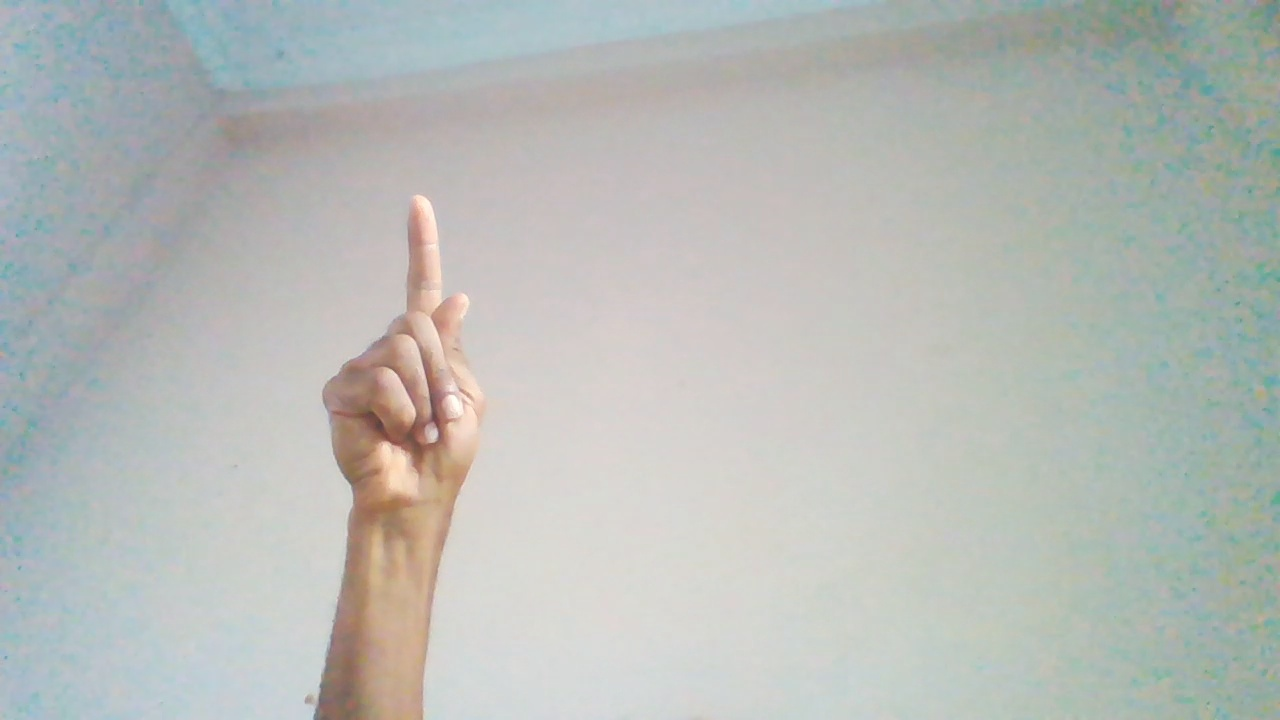ne: (321, 194, 486, 594)
